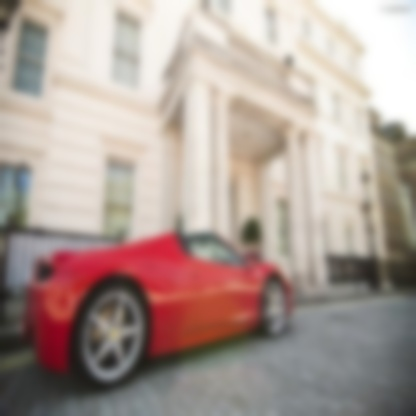Vehicle: (22, 234, 295, 382)
